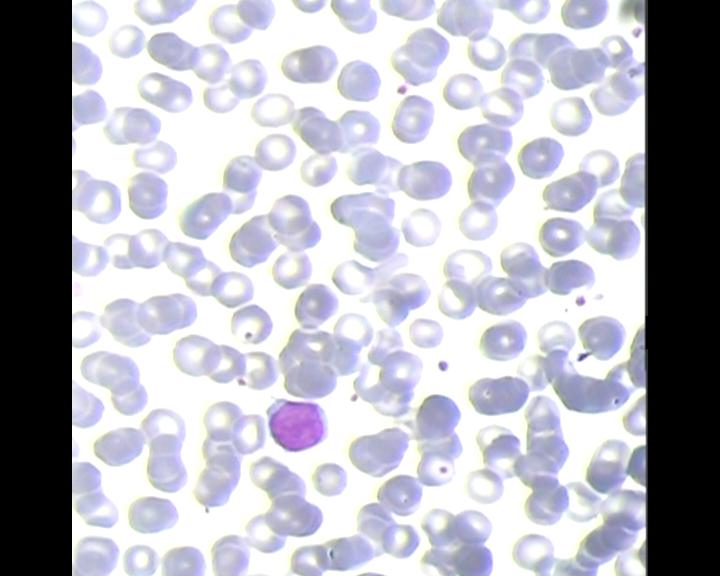lymp: (261, 392, 331, 452)
